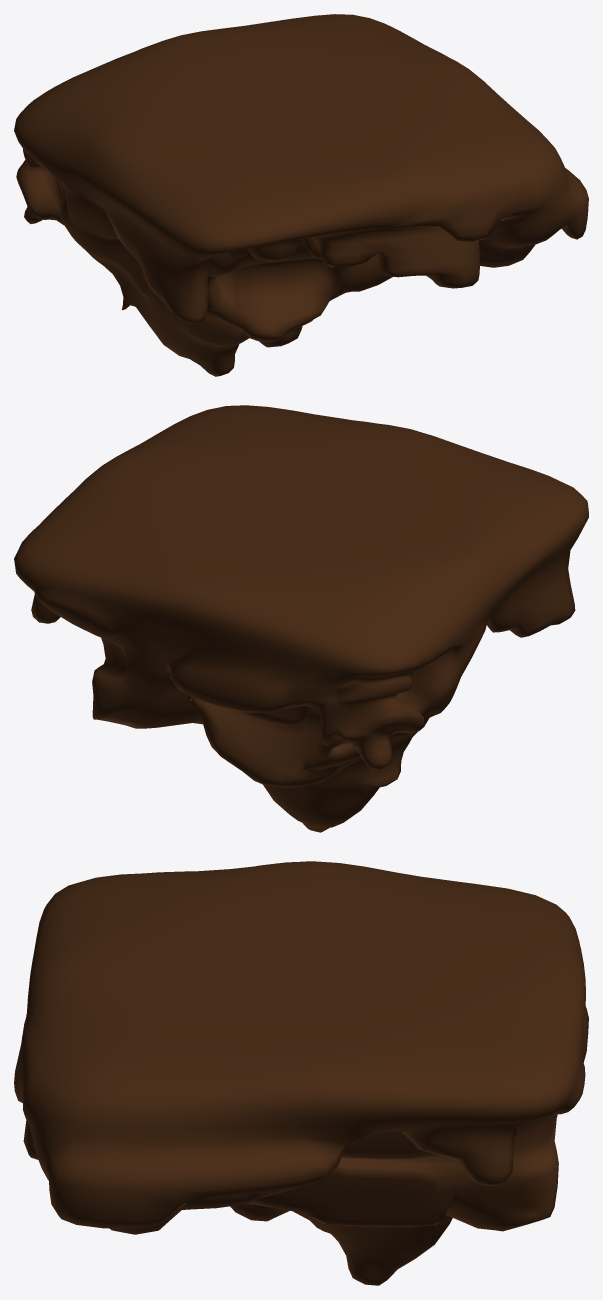
File: platform_2.fbx
The picture shows the model from 3 angles, top to bottom: view 1: azimuth 30°, elevation 25°; view 2: azimuth 150°, elevation 25°; view 3: azimuth 270°, elevation 25°; orthographic projection. The views are drawn at different scales.
Visible parts, largest first — view 1: Cube.009; view 2: Cube.009; view 3: Cube.009.
Part boxes in pixels (x1,y1,x2,y2): Cube.009: [14, 14, 588, 376]; Cube.009: [14, 405, 588, 832]; Cube.009: [14, 861, 588, 1285].
Bounding box in the file's own units: 145 × 94.55 × 141.
